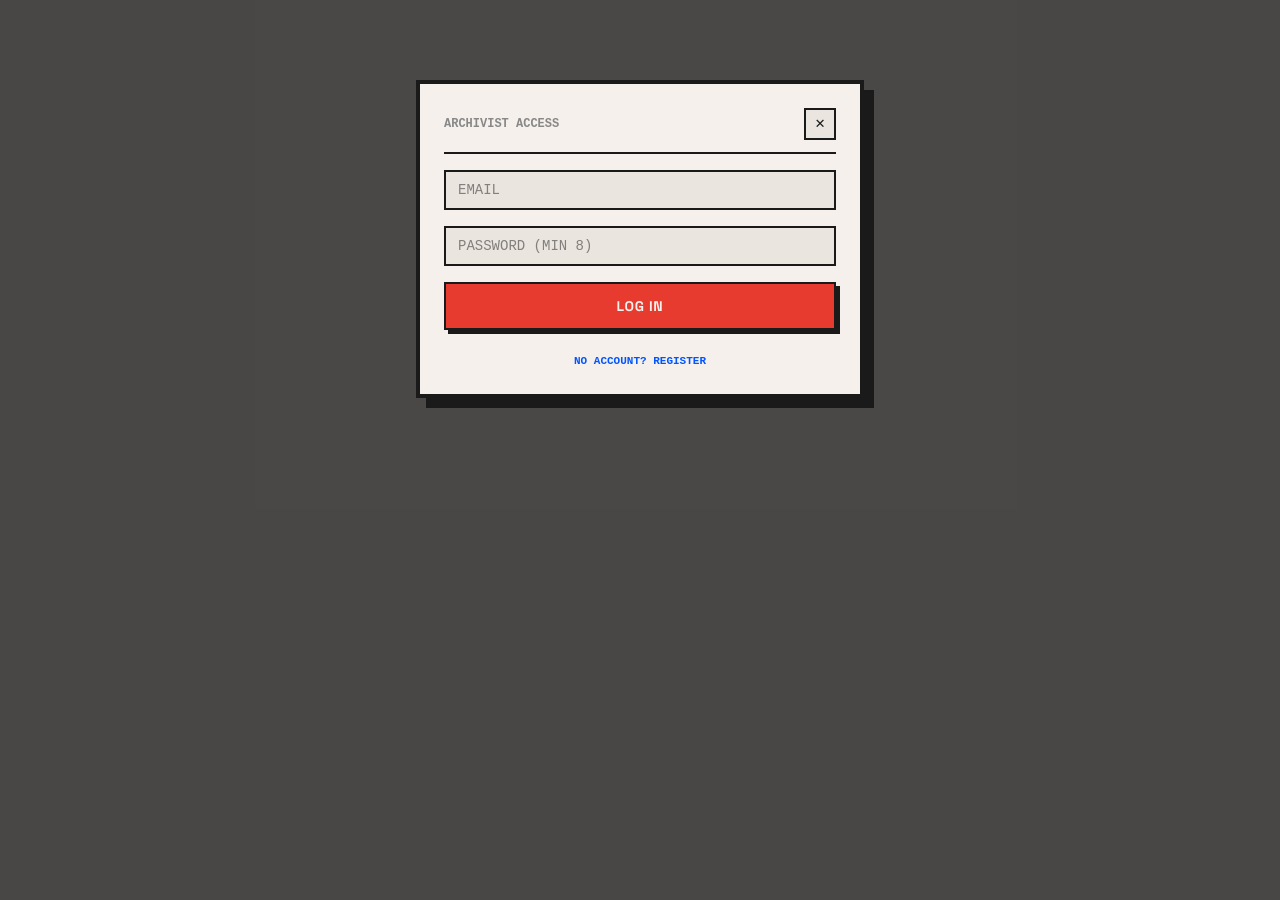
Scenario: AuthModal › toggles between modes
Click the button "NO ACCOUNT? REGISTER".
click(640, 361)  # box [444,353,836,370]
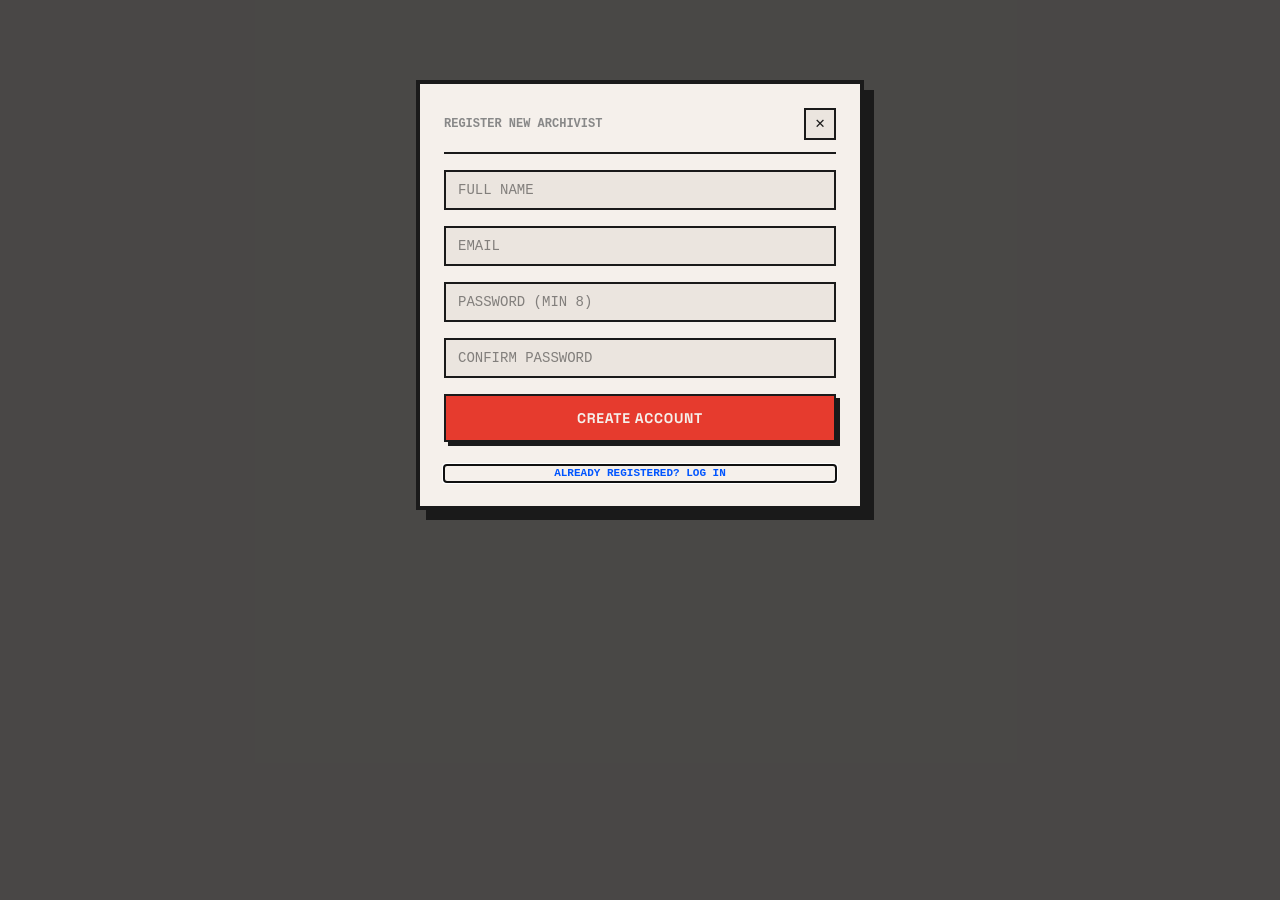
Result: the text "REGISTER NEW ARCHIVIST" is shown at [444,116,602,132]
Click the button "ALREADY REGISTERED? LOG IN".
click(640, 473)  # box [444,465,836,482]
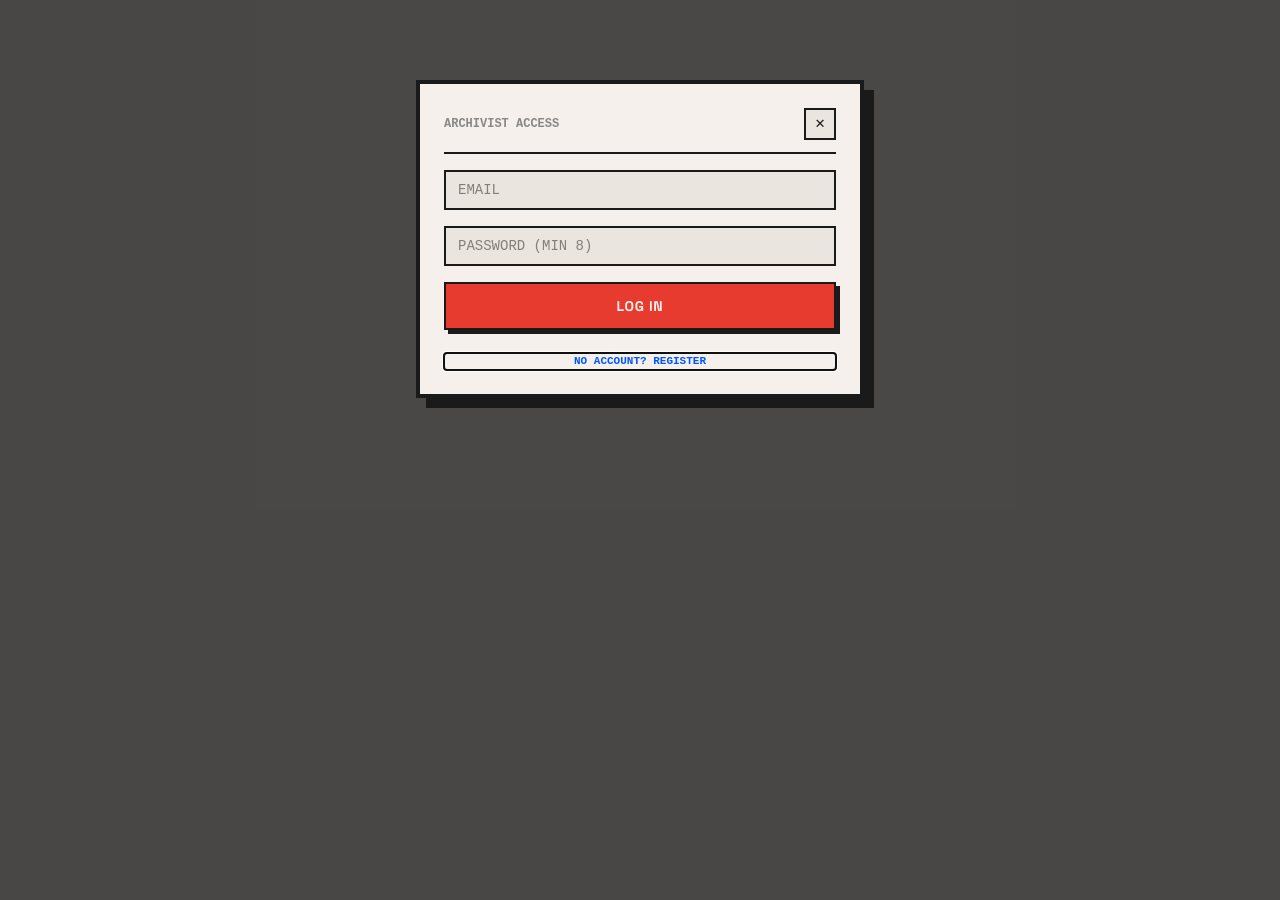
Result: the text "ARCHIVIST ACCESS" is shown at [444,116,559,132]
